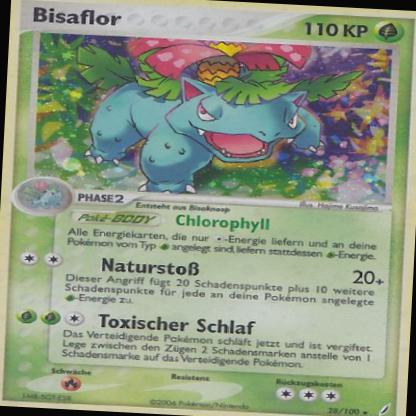Venusaur: (78, 37, 371, 202)
